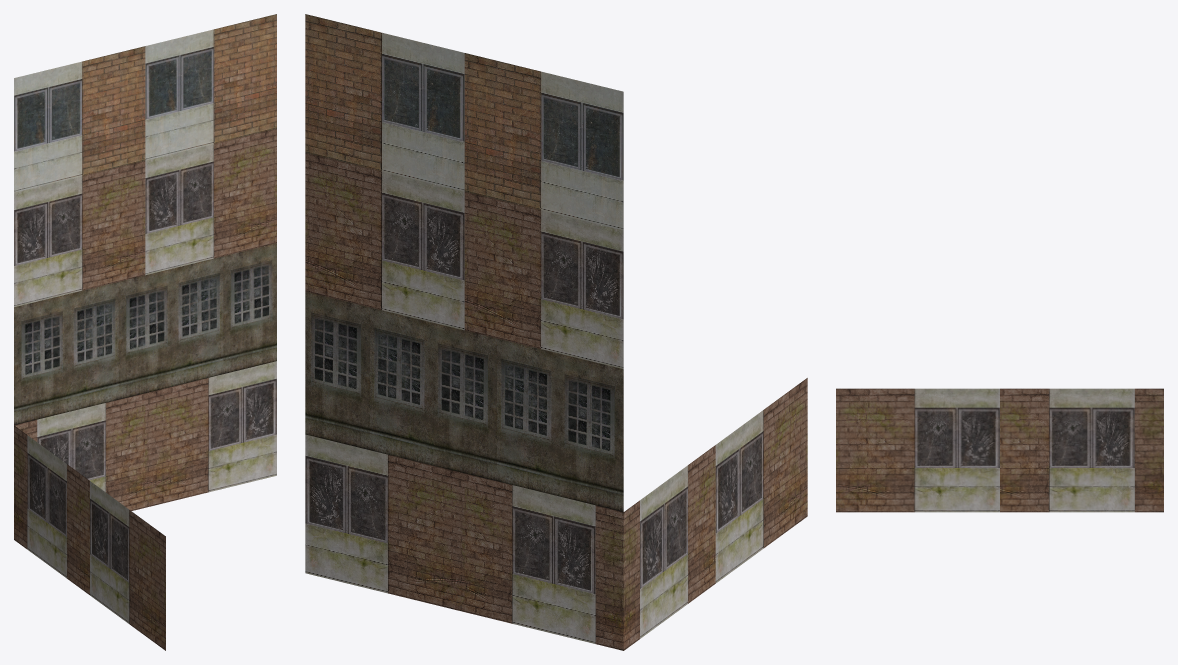
The model's file is Blocks_House_02.fbx.
The picture shows the model from 3 angles, left to right: view 1: azimuth 30°, elevation 25°; view 2: azimuth 150°, elevation 25°; view 3: azimuth 270°, elevation 25°; orthographic projection. The views are drawn at different scales.
Visible parts, largest first — view 1: Blocks_House_02_A, Blocks_House_02_B, Blocks_House_02_D, Blocks_House_02_C; view 2: Blocks_House_02_A, Blocks_House_02_B, Blocks_House_02_D, Blocks_House_02_C; view 3: Blocks_House_02_A.
Part boxes in pixels (box(x1,y1,x2,y2)): Blocks_House_02_A: box(14, 361, 276, 650); Blocks_House_02_B: box(14, 243, 276, 425); Blocks_House_02_D: box(14, 14, 276, 192); Blocks_House_02_C: box(14, 128, 276, 307); Blocks_House_02_A: box(305, 378, 807, 650); Blocks_House_02_B: box(305, 291, 623, 511); Blocks_House_02_D: box(305, 14, 623, 230); Blocks_House_02_C: box(305, 153, 623, 369); Blocks_House_02_A: box(836, 388, 1163, 512).
Size of the model in its own units: 700 by 1175 by 700.
